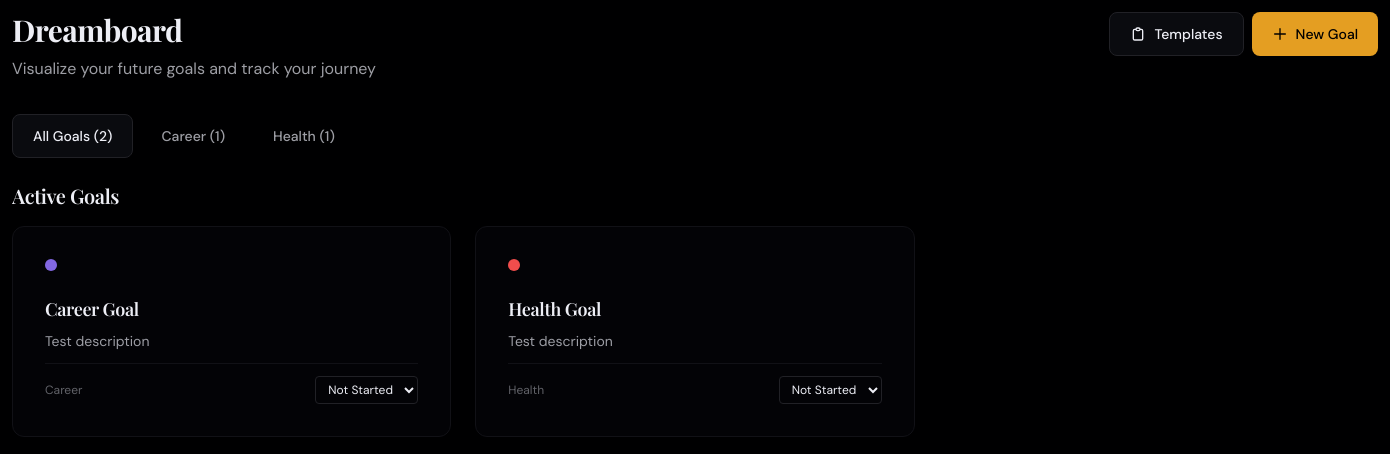
DreamboardView › Category Filters › shows all goals when All Goals filter is clicked
Check: the heading "Career Goal" is shown, box [45, 297, 139, 321]
// Filter to career only
Click the button "Career (1)".
click(193, 136)  # box [142, 114, 245, 158]
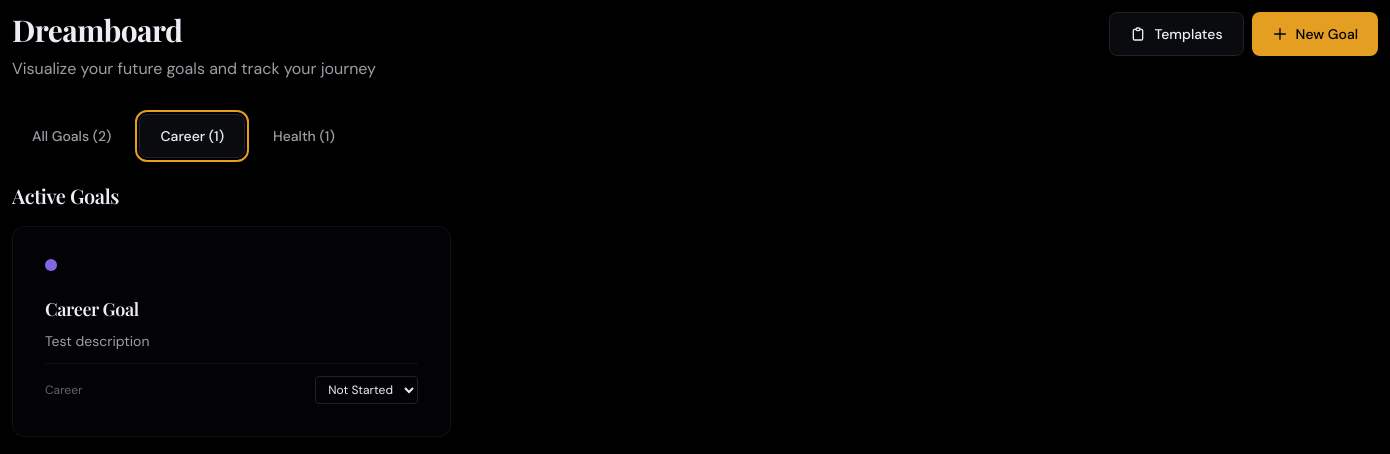
Check: the heading "Health Goal" is gone
// Go back to all
Click the button "All Goals (2)".
click(72, 136)  # box [12, 114, 132, 158]
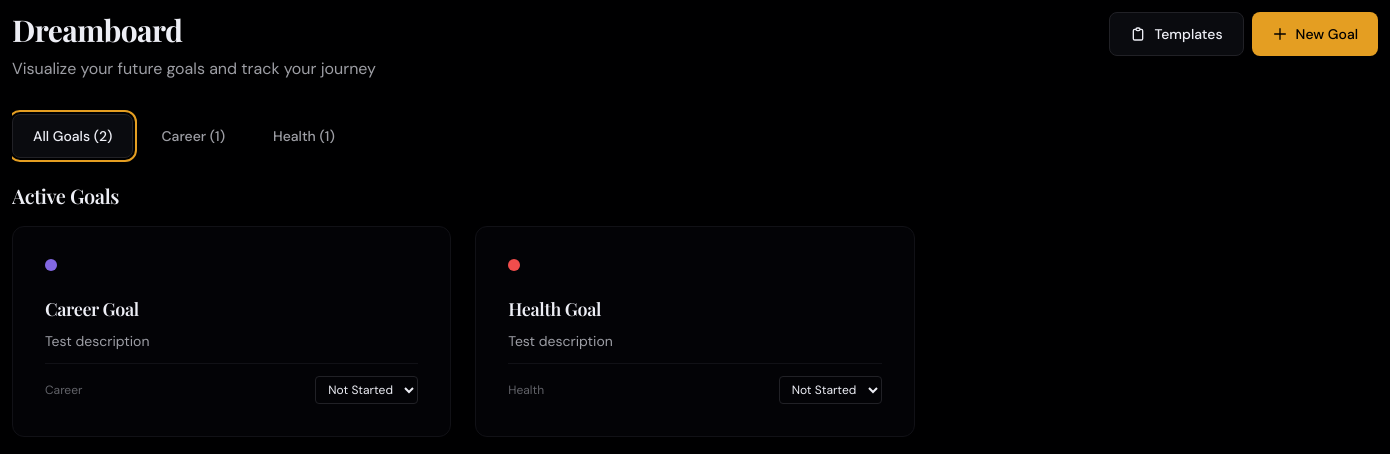
Check: the heading "Career Goal" is shown, box [45, 297, 139, 321]
Check: the heading "Health Goal" is shown, box [508, 297, 601, 321]
